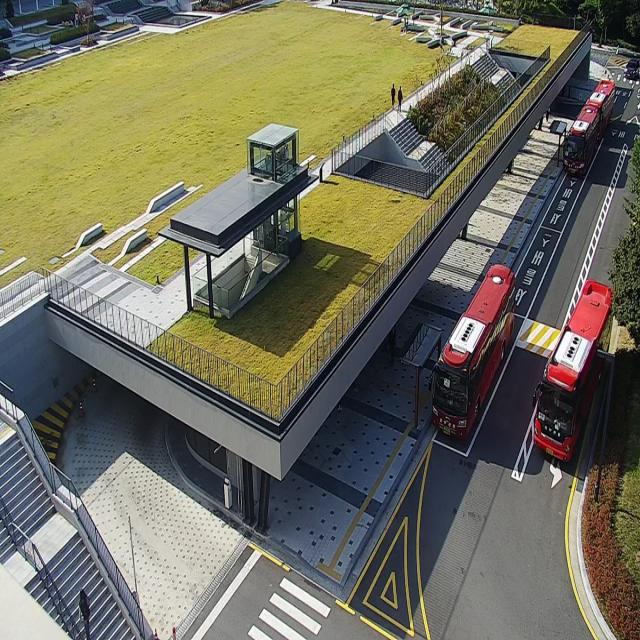queue: (416, 331, 442, 433)
